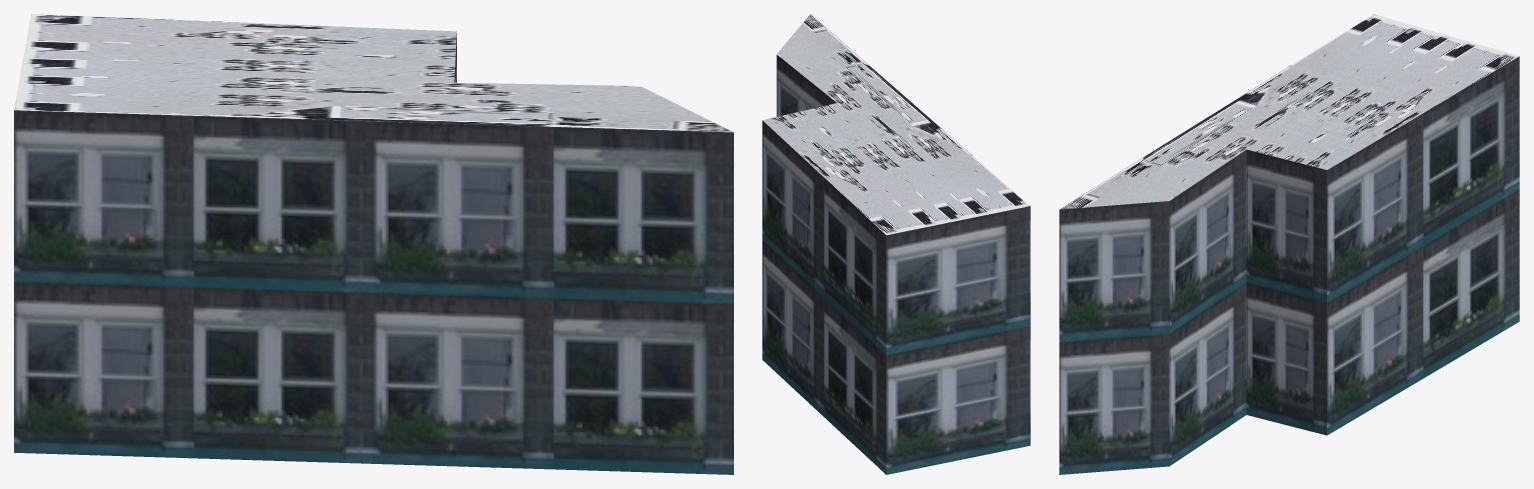
File: ResTex__733.fbx
The picture shows the model from 3 angles, left to right: view 1: azimuth 30°, elevation 25°; view 2: azimuth 150°, elevation 25°; view 3: azimuth 270°, elevation 25°; orthographic projection. The views are drawn at different scales.
Visible parts, largest first — view 1: CityEngineMaterial_11_m, CityEngineMaterial_m; view 2: CityEngineMaterial_11_m, CityEngineMaterial_m; view 3: CityEngineMaterial_11_m, CityEngineMaterial_m.
Part boxes in pixels (x1=…): CityEngineMaterial_11_m: x1=14, y1=34, x2=733, y2=474; CityEngineMaterial_m: x1=14, y1=14, x2=732, y2=132; CityEngineMaterial_11_m: x1=762, y1=55, x2=1030, y2=474; CityEngineMaterial_m: x1=763, y1=14, x2=1029, y2=235; CityEngineMaterial_11_m: x1=1059, y1=56, x2=1519, y2=474; CityEngineMaterial_m: x1=1059, y1=14, x2=1519, y2=209.
Size of the model in its own units: 9.48 by 6 by 9.43.
Materials: 2 (2 with a texture image).
